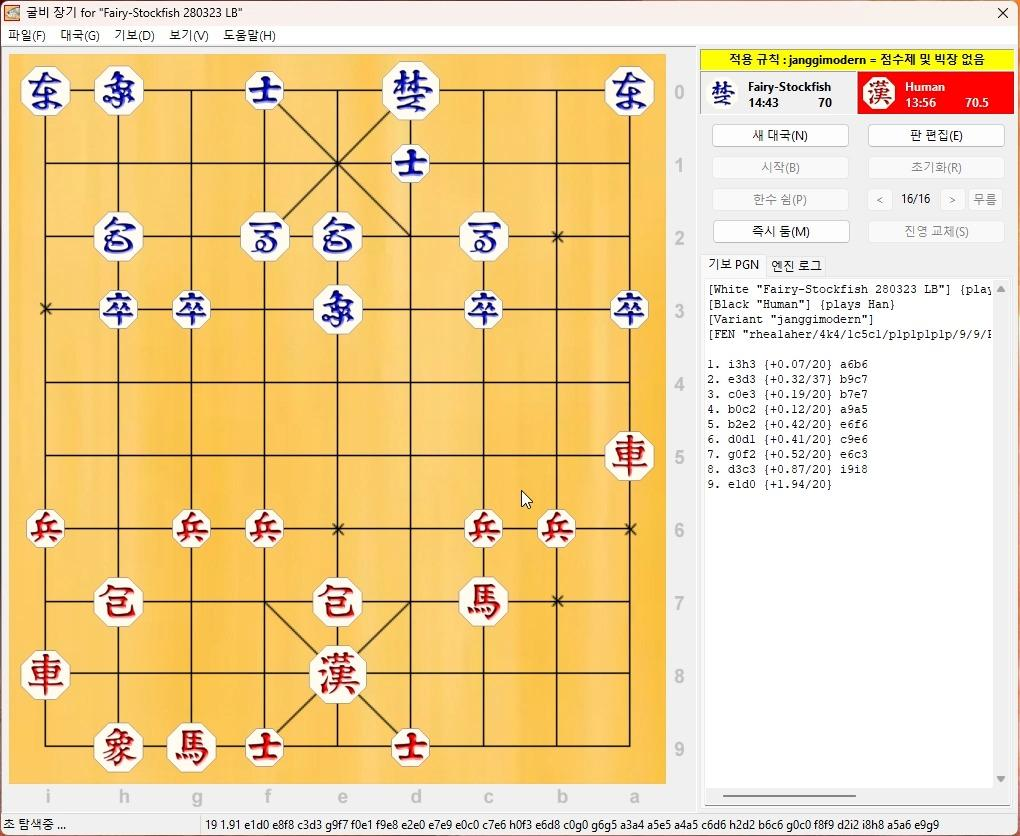cha_green: (603, 68, 653, 115), (21, 70, 69, 114)
cha_red: (604, 433, 655, 480), (23, 651, 72, 696)
jol_green: (466, 293, 505, 329), (171, 292, 210, 328), (610, 291, 649, 326), (98, 293, 136, 328)
jol_red: (463, 511, 503, 550), (539, 509, 577, 549), (174, 510, 212, 550), (24, 512, 65, 547), (243, 512, 283, 547)
ma_green: (240, 213, 289, 263), (461, 214, 509, 260)
ma_red: (167, 723, 217, 773), (458, 580, 507, 626)
po_green: (315, 214, 364, 259), (93, 214, 142, 259)
po_red: (95, 577, 144, 624), (315, 577, 364, 623)
sa_green: (245, 72, 282, 112), (392, 147, 432, 181)
sa_red: (246, 729, 288, 766), (390, 728, 430, 766)
sang_green: (94, 69, 143, 114), (316, 285, 363, 330)
sang_red: (92, 725, 145, 770)
wang_green: (382, 64, 439, 118)
wang_red: (310, 647, 369, 703)
